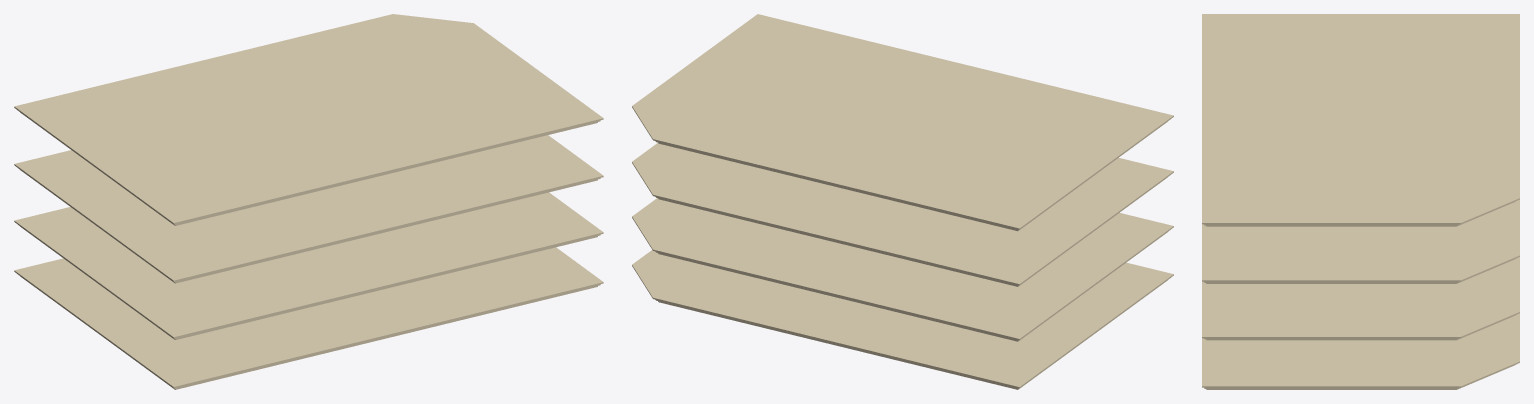
File: KOL_T1_METROPOLITAN__02_Cornices.fbx
3 views of the same model, side by side, from view 1: azimuth 30°, elevation 25°; view 2: azimuth 150°, elevation 25°; view 3: azimuth 270°, elevation 25° (orthographic). The views are drawn at different scales.
Parts seen in each view (by area): view 1: KOL_T1_METROPOLITAN__02_Cornices__KOL_T1_HeritageCream; view 2: KOL_T1_METROPOLITAN__02_Cornices__KOL_T1_HeritageCream; view 3: KOL_T1_METROPOLITAN__02_Cornices__KOL_T1_HeritageCream.
Part boxes in pixels (x1,y1,x2,y2): KOL_T1_METROPOLITAN__02_Cornices__KOL_T1_HeritageCream: [14, 14, 603, 389]; KOL_T1_METROPOLITAN__02_Cornices__KOL_T1_HeritageCream: [632, 14, 1173, 389]; KOL_T1_METROPOLITAN__02_Cornices__KOL_T1_HeritageCream: [1202, 14, 1519, 389].
Bounding box in the file's own units: 151 × 56.8 × 97.
